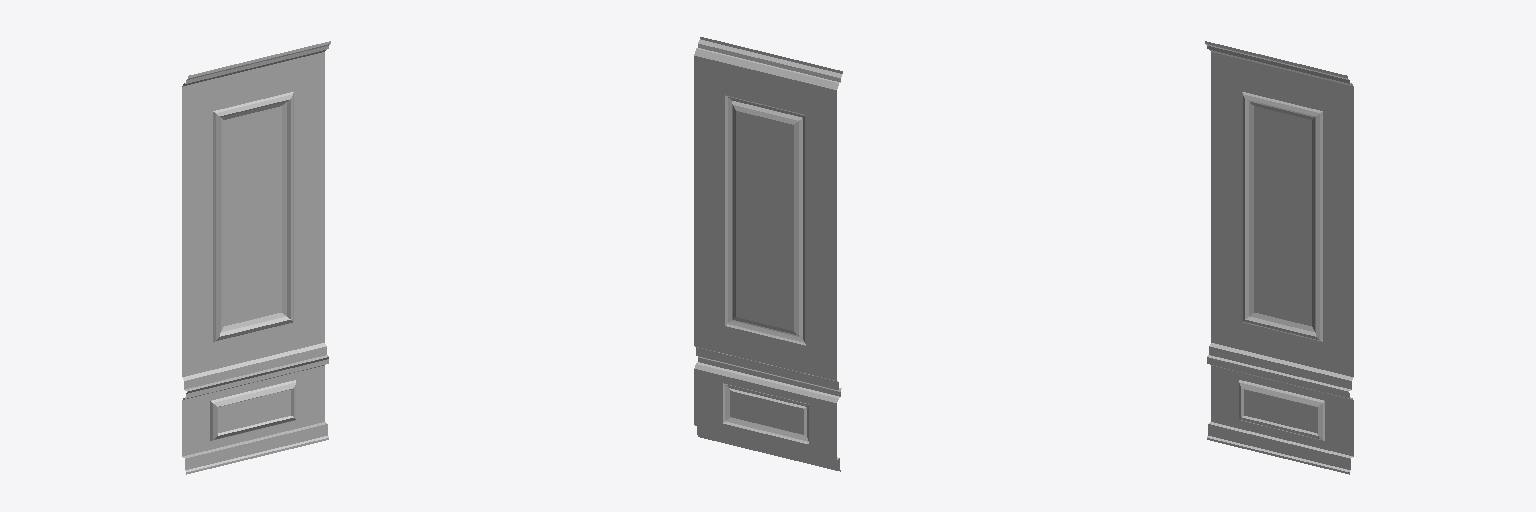
The model's file is Wall_04.obj.
The picture shows the model from 3 angles: view 1: azimuth 30°, elevation 25°; view 2: azimuth 150°, elevation 25°; view 3: azimuth 330°, elevation 25°; orthographic projection.
Visible parts, largest first — view 1: Walls_Wall_02; view 2: Walls_Wall_02; view 3: Walls_Wall_02.
Boxes of the visible parts, box(x1,y1,x2,y2) form: Walls_Wall_02: box(182, 41, 330, 474); Walls_Wall_02: box(694, 37, 842, 471); Walls_Wall_02: box(1205, 41, 1353, 474).
Bounding box in the file's own units: 150 × 401 × 11.56.